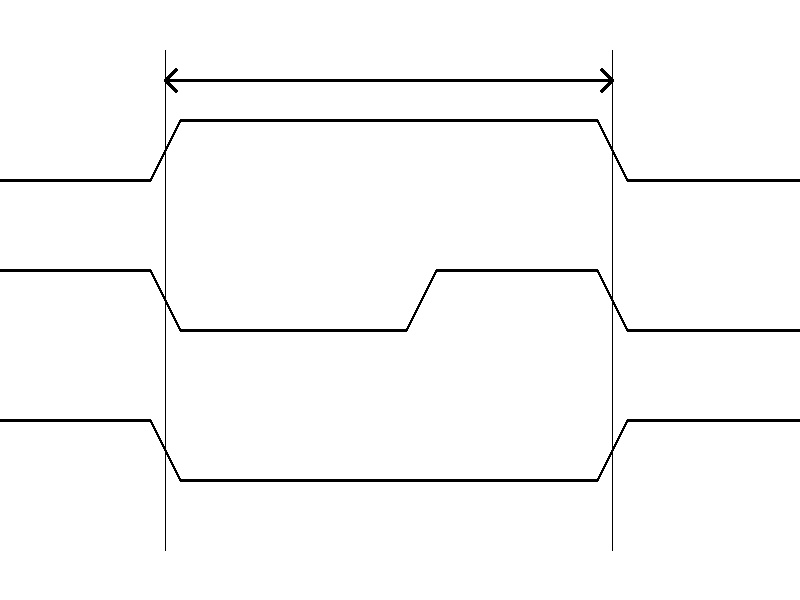double_arrow: (165, 65, 612, 95)
